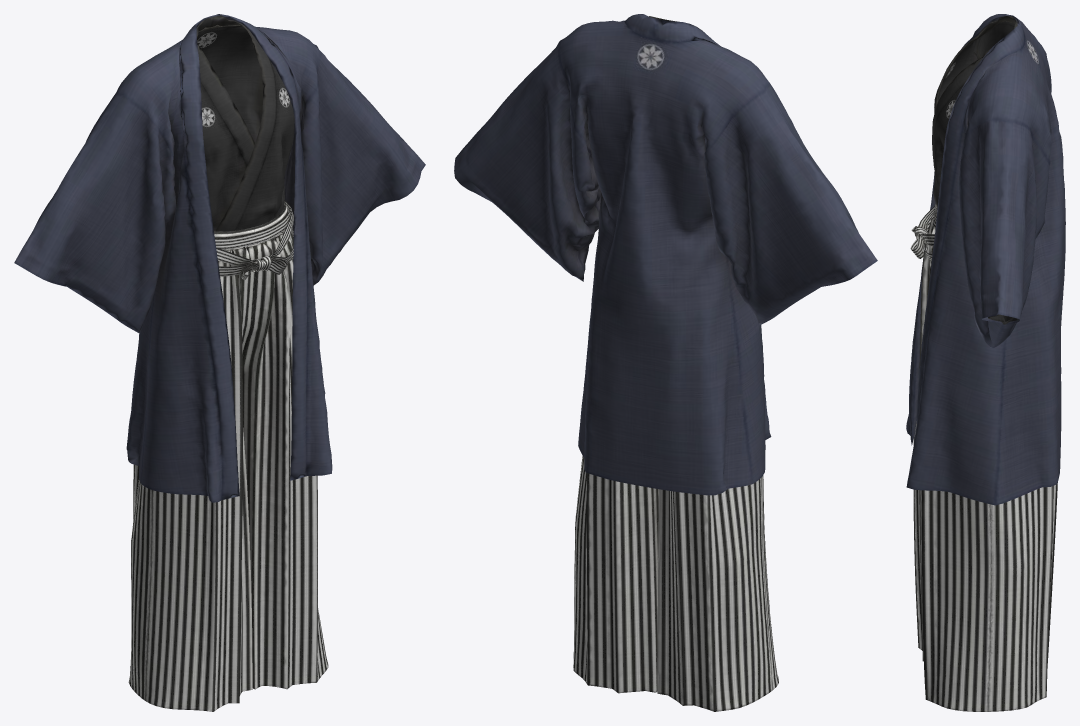
3 views of the same model, side by side, from view 1: azimuth 30°, elevation 25°; view 2: azimuth 150°, elevation 25°; view 3: azimuth 270°, elevation 25° (orthographic). The views are drawn at different scales.
Visible parts, largest first — view 1: Haori, Hakama, Jinbei; view 2: Haori, Hakama; view 3: Haori, Hakama, Jinbei.
Boxes of the visible parts, left/top/right/bottom form: Haori: left=14, top=14, right=425, bottom=502; Hakama: left=128, top=200, right=328, bottom=711; Jinbei: left=196, top=15, right=294, bottom=231; Haori: left=454, top=14, right=877, bottom=495; Hakama: left=573, top=456, right=778, bottom=711; Haori: left=906, top=14, right=1065, bottom=505; Hakama: left=910, top=203, right=1057, bottom=711; Jinbei: left=932, top=16, right=1017, bottom=324.
Size of the model in its own units: 108 by 163 by 36.25.
3 materials, 3 textured.
